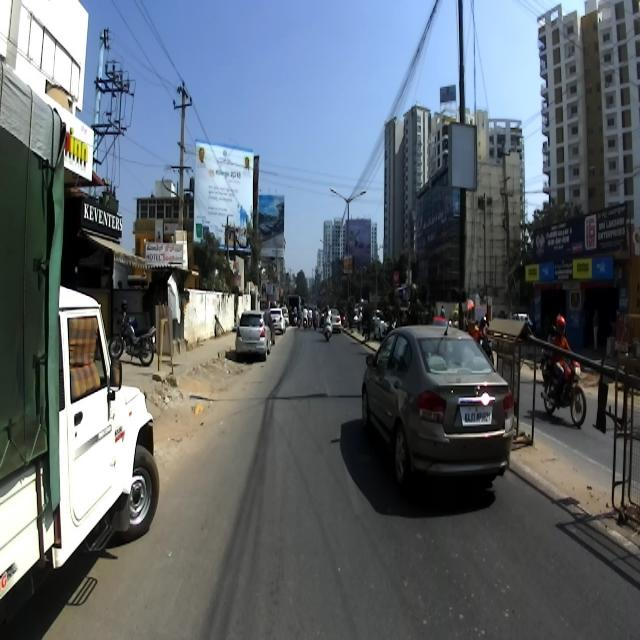Car_Honda: (361, 310, 514, 491)
Car_Maruti-Suzuki: (235, 309, 272, 360)
motorcycle: (108, 298, 156, 366)
motorcycle_Hero: (540, 354, 586, 426)
truck: (0, 36, 162, 636)
